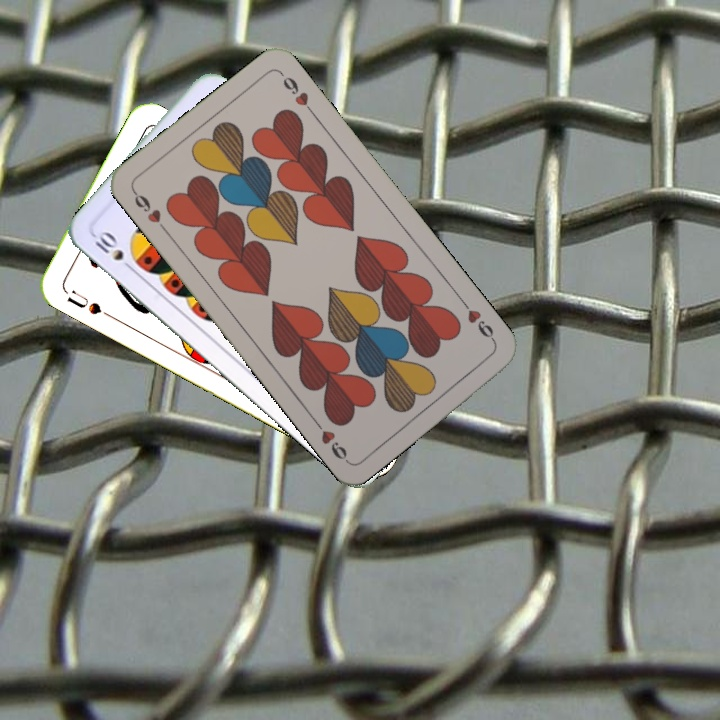H9: (128, 186, 171, 235), (457, 296, 499, 346)
S10: (88, 226, 137, 275)
SU: (63, 285, 115, 321)
